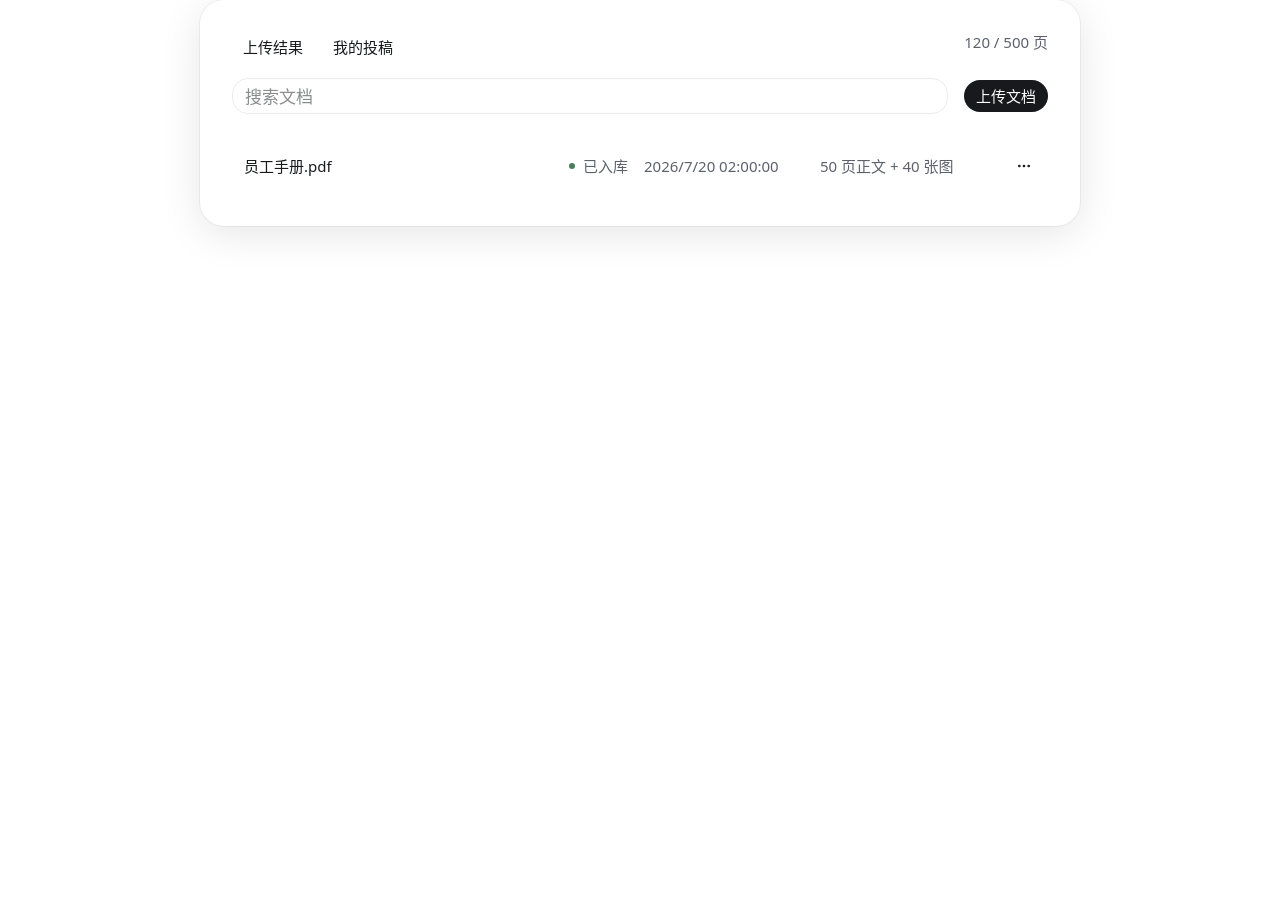
Test: KnowledgeModule 知识库首页 › 文档行操作：仅 manage 渲染；删除 202 后立即移除
This screenshot has width=1280, height=900.
Click the button named "文档 员工手册.pdf 操作" at (1024, 166), box [1012,154,1036,178]
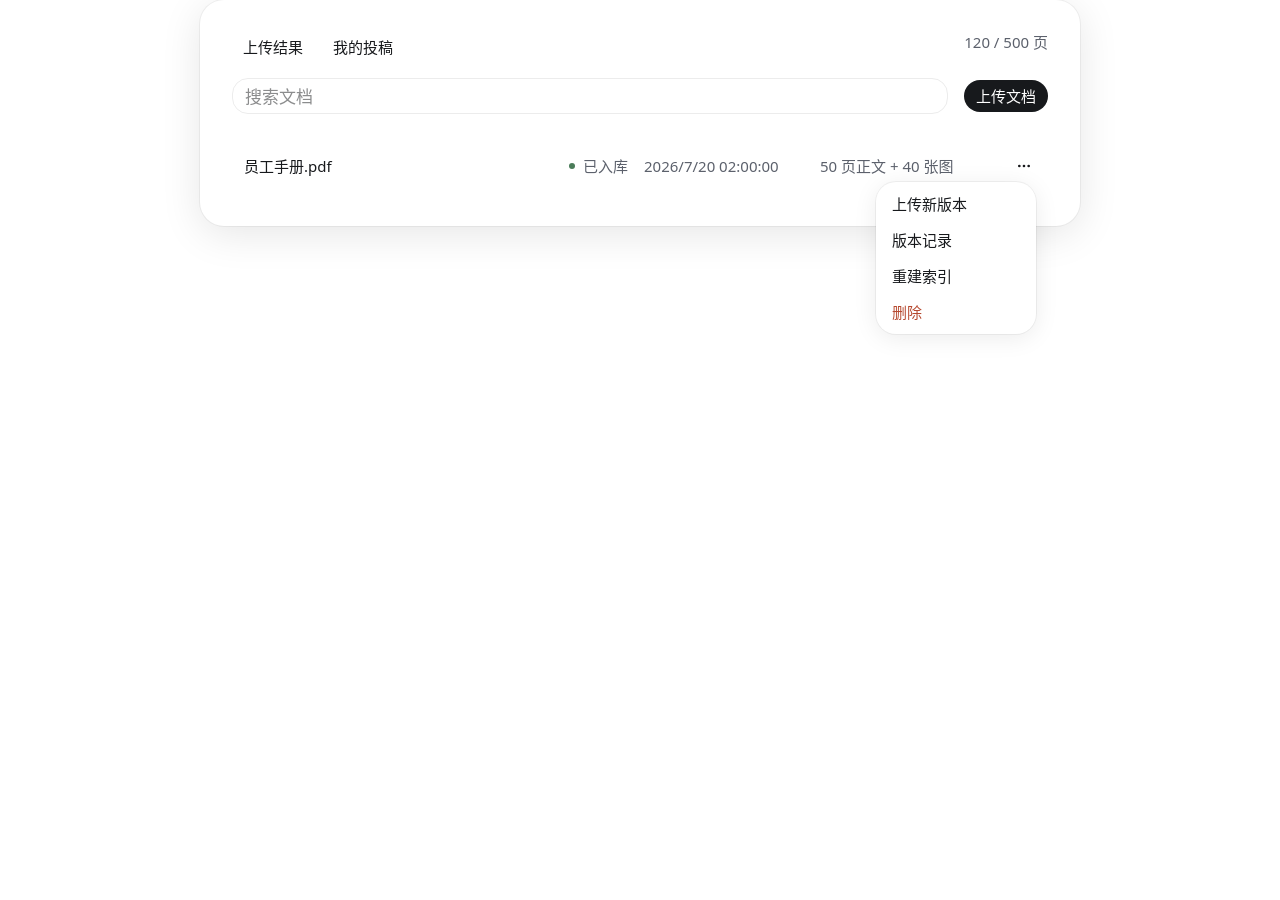
Click the menu item "删除" at (907, 312), box [892,302,922,322]
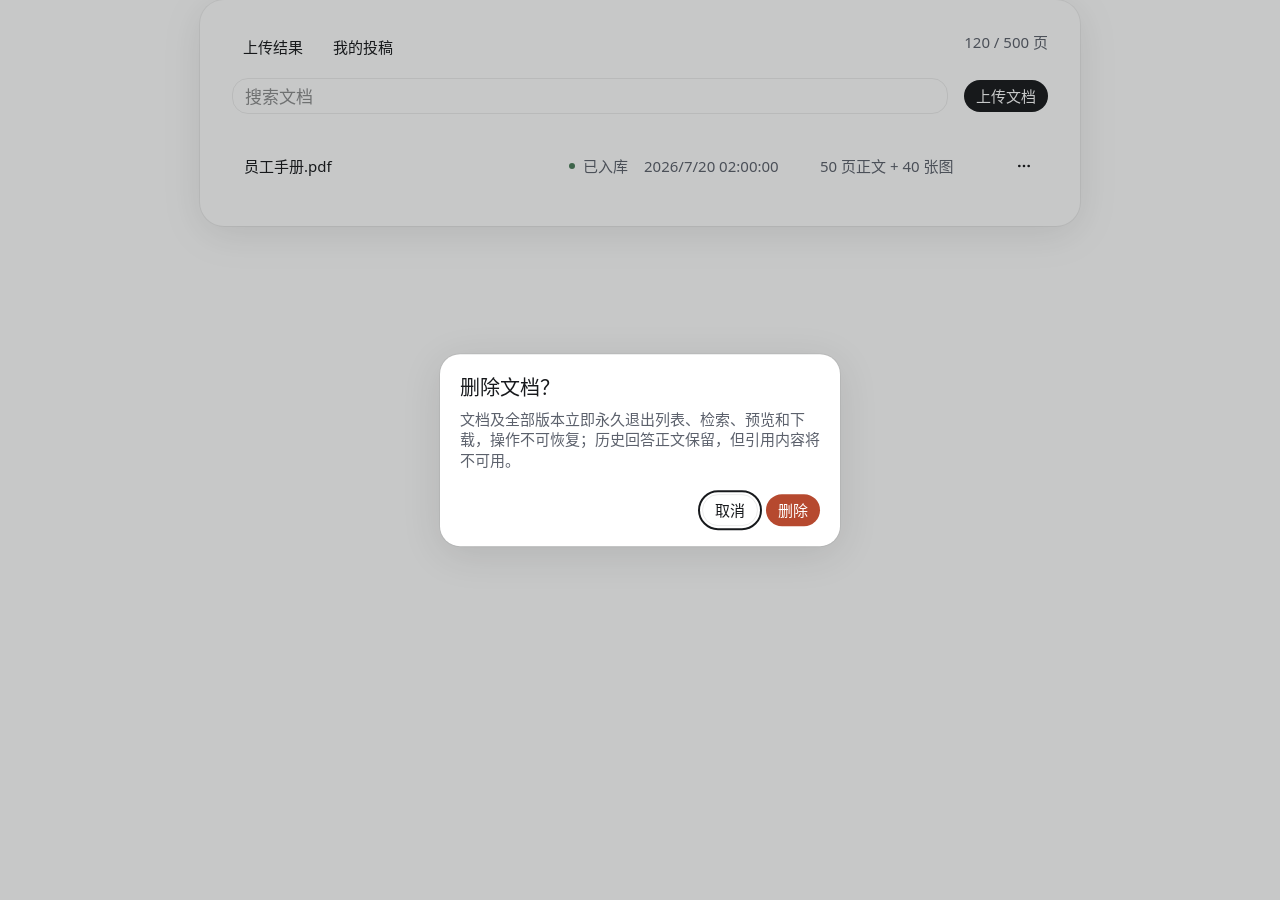
Expected: the text "文档及全部版本立即永久退出列表、检索、预览和下载，操作不可恢复；历史回答正文保留，但引用内容将不可用。" is shown, [460,409,820,470]
Click the button "删除" at (793, 510), box [766,494,820,526]
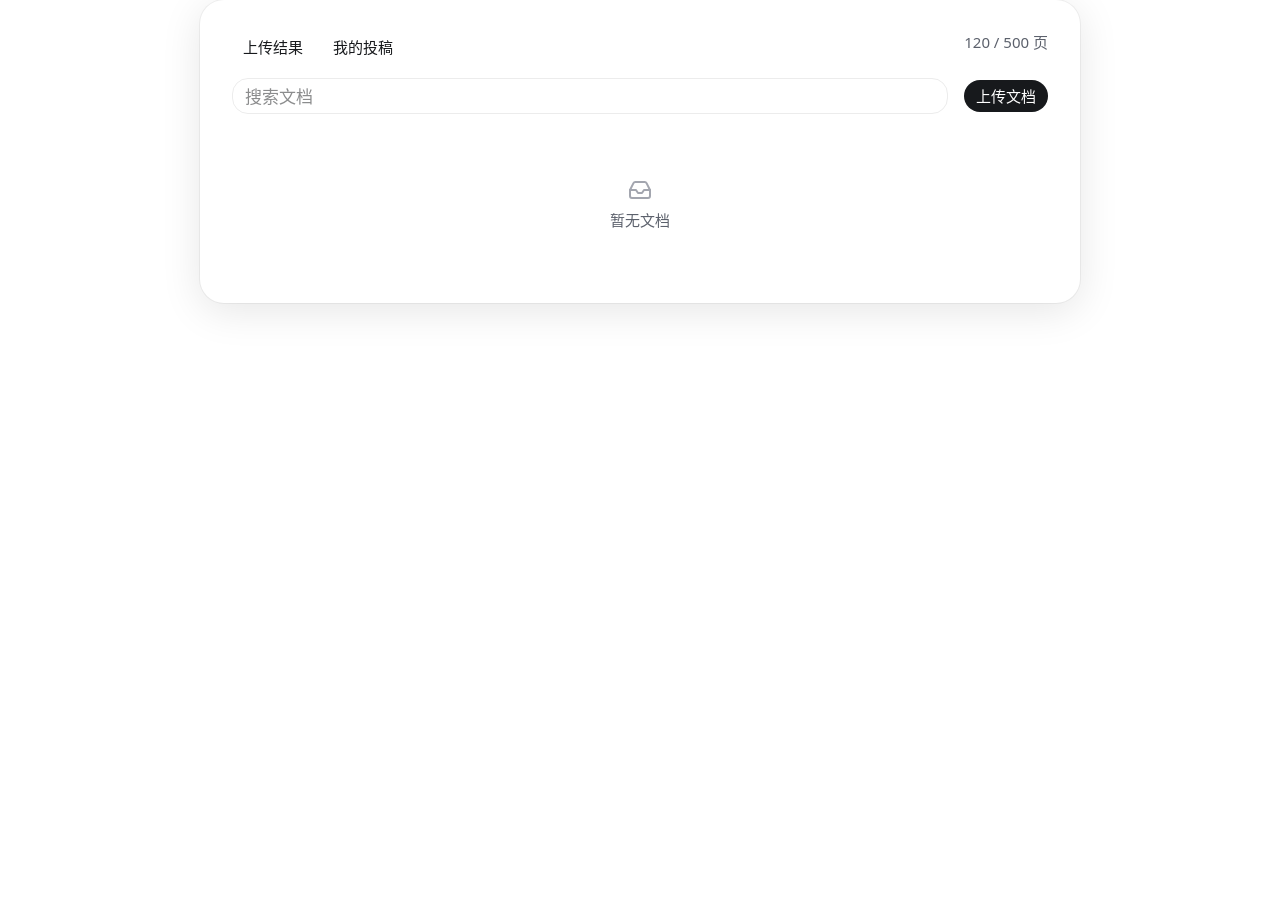
Expected: the text "员工手册.pdf" is gone
